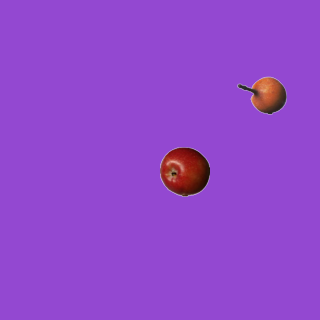Apple Braeburn: (159, 146, 209, 196)
Granadilla: (236, 70, 286, 120)
